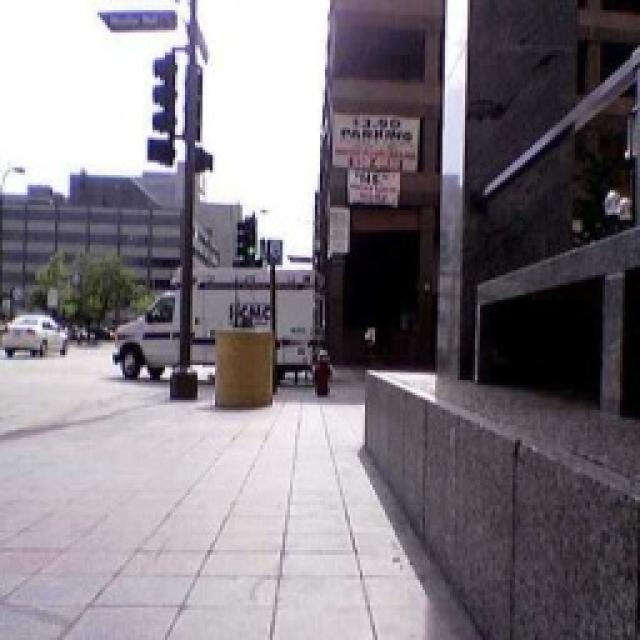emergency-vehicle: (108, 252, 312, 408)
